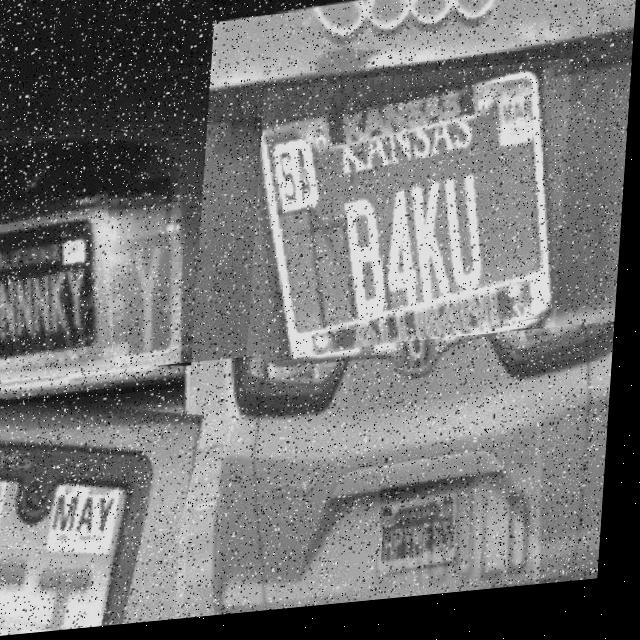LicensePlate: (264, 73, 562, 364), (0, 391, 204, 640), (0, 195, 121, 370), (384, 486, 482, 581)
